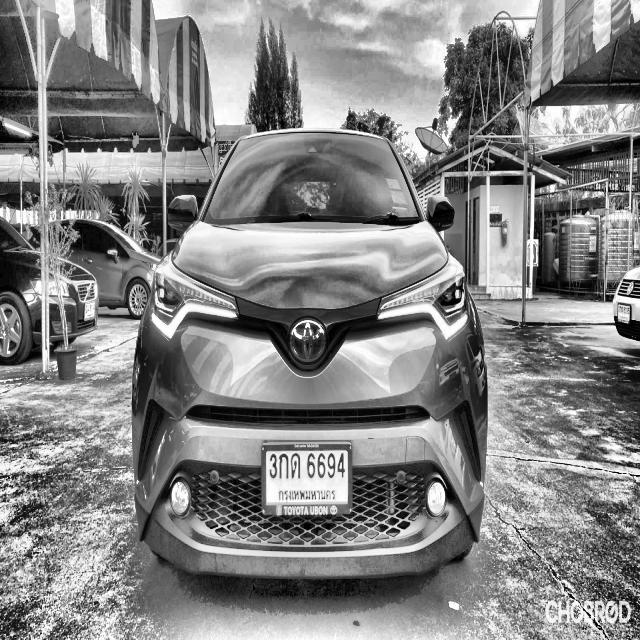license-plate: (260, 438, 353, 521), (618, 299, 630, 327), (84, 299, 96, 323)
